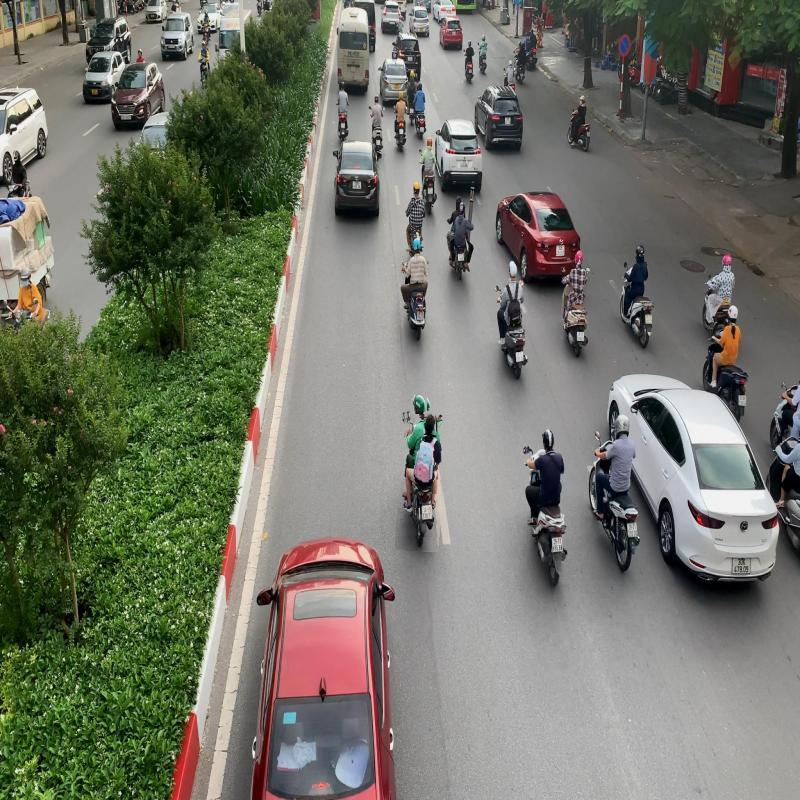helmet: (411, 392, 427, 415)
licenseplate: (420, 504, 434, 522)
motorcyclist: (397, 392, 446, 552)
nohelmet: (423, 411, 436, 435)
